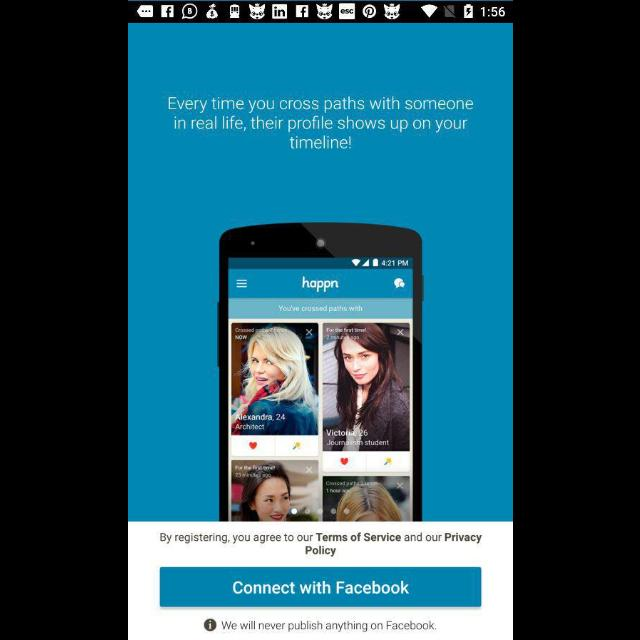icon: (204, 619, 216, 631)
image: (216, 223, 424, 522)
pageindicator: (290, 508, 350, 516)
text: (168, 97, 472, 149), (159, 532, 481, 556), (220, 620, 436, 632)
textbutton: (160, 567, 480, 607)
uppertaskbar: (128, 1, 512, 23)
